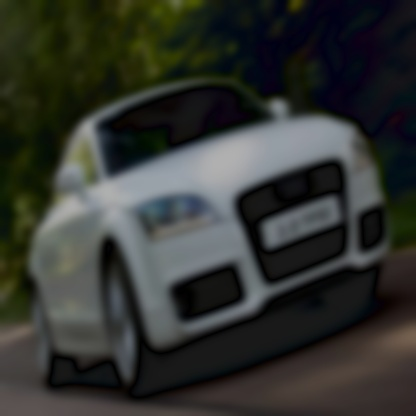Vehicle: (27, 77, 390, 401)
